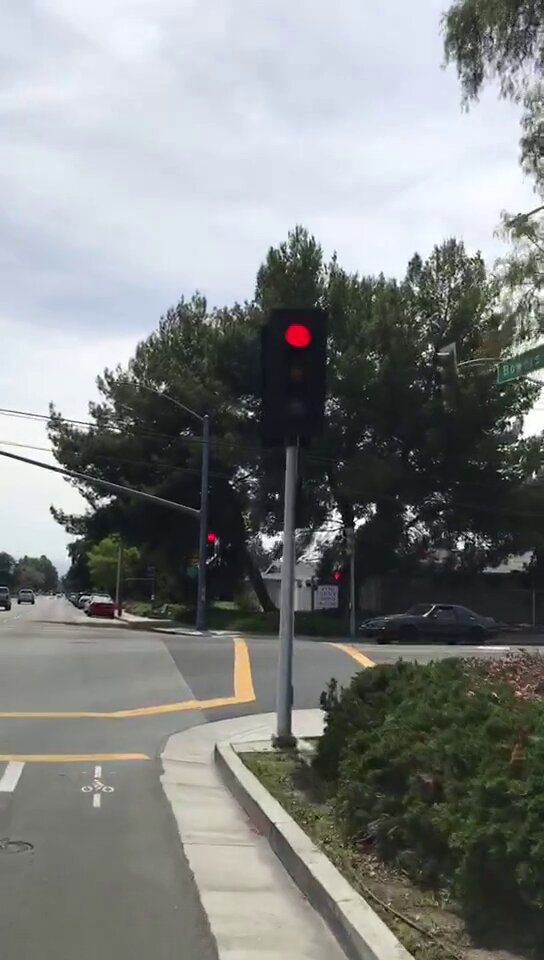red_light: (272, 312, 324, 434), (204, 528, 215, 557)
